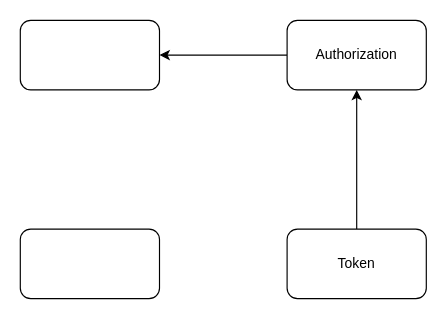
Image size: 447x319. Some labels were removed from this diagram. The box of each missing label's shape, as (x1, y1, x2, y2) in pixels:
Applicaiton: (19, 19, 160, 90)
Scope: (19, 228, 160, 299)
